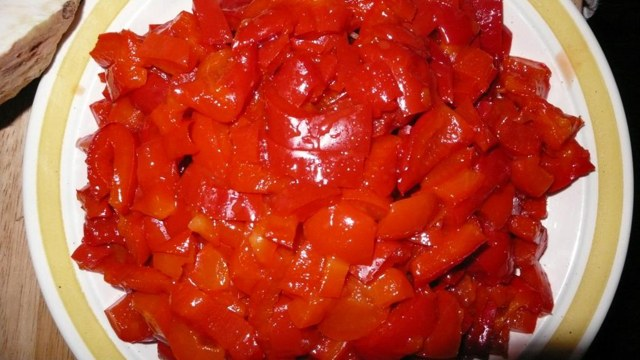tomato: (70, 0, 596, 360)
